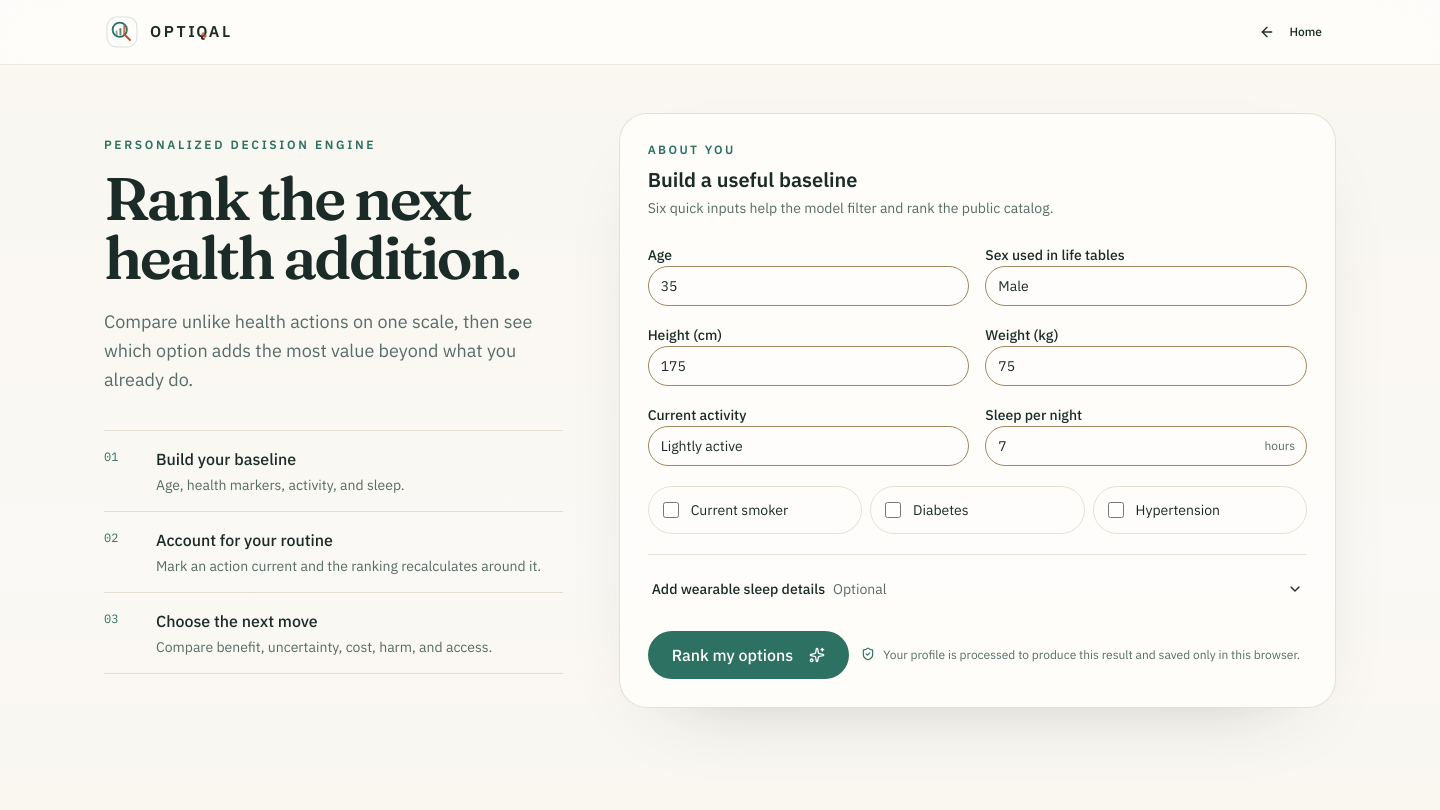
Test case: FrontierWorkbench › shows the medical disclaimer
Click the button "Rank my options": (748,655) left=648, top=631, right=849, bottom=679
(page scrolled)
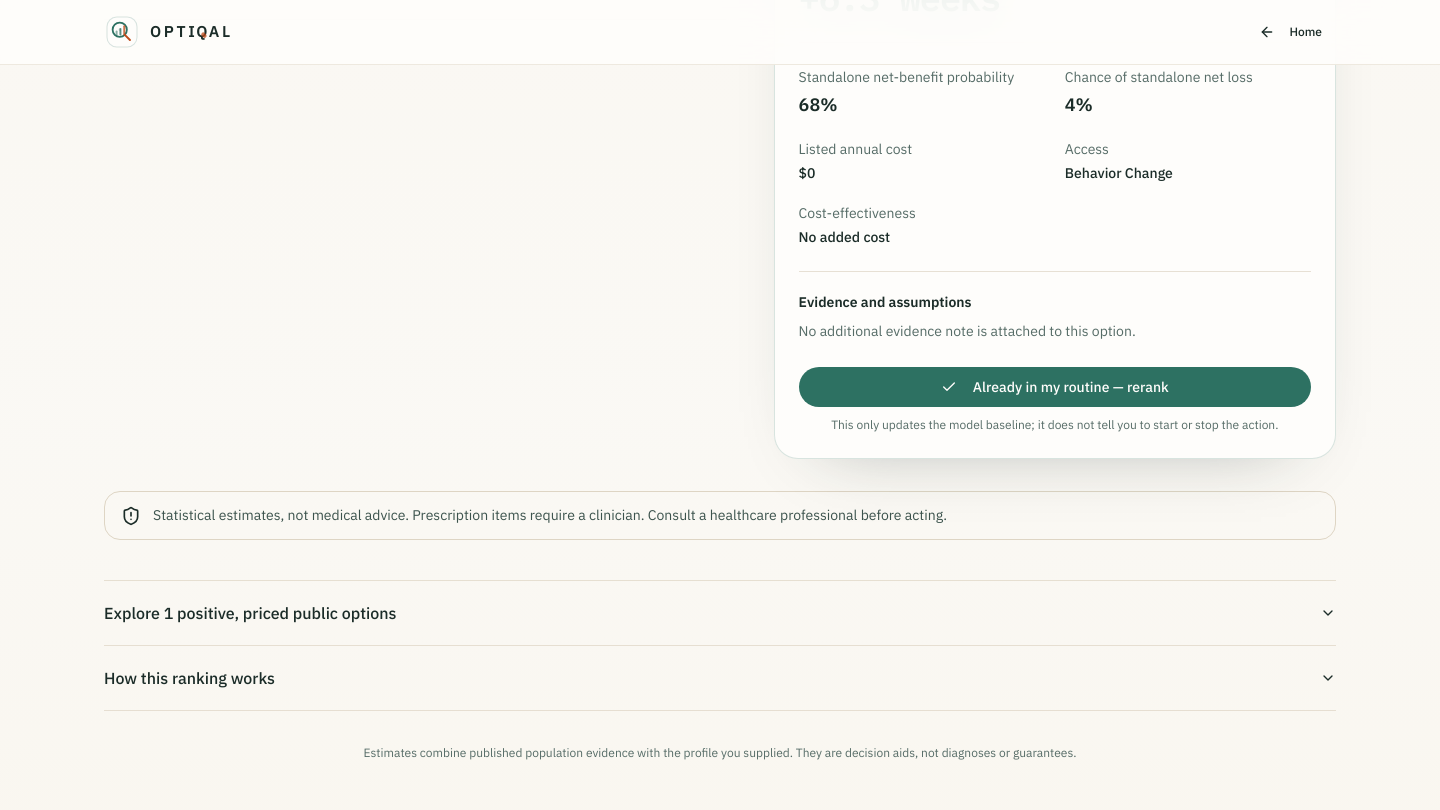
Now the text "consult a healthcare professional before acting" is shown, box left=153, top=506, right=947, bottom=524
